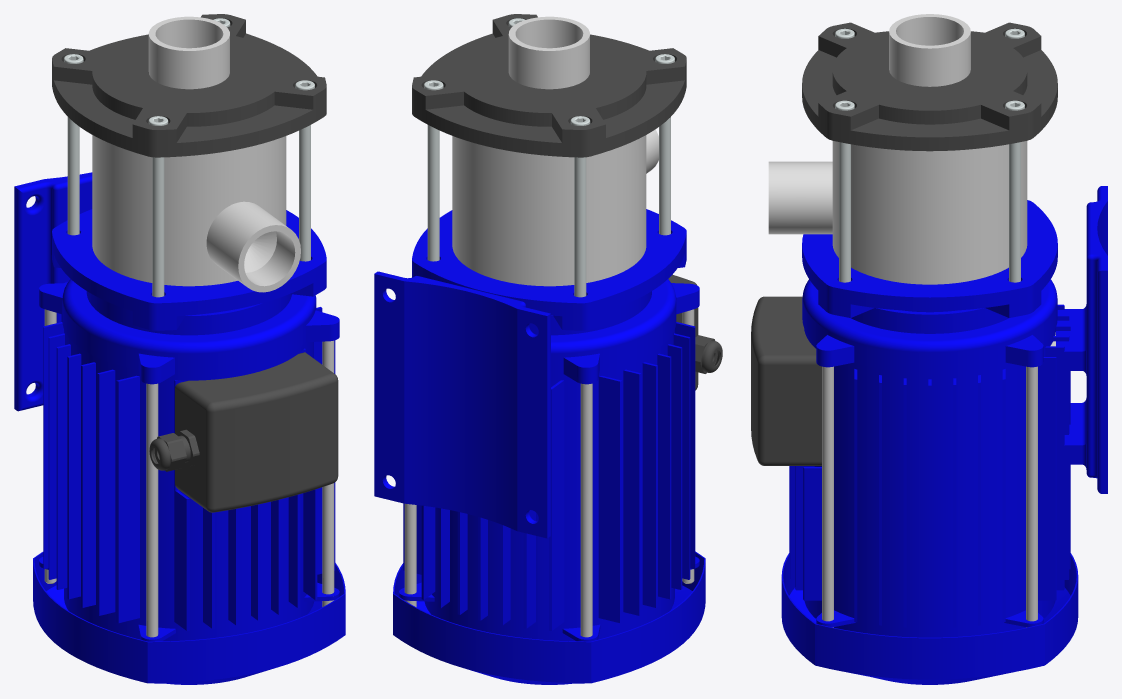
Rendered from pump1.glb.
3 renders of one model, left to right at view 1: azimuth 30°, elevation 25°; view 2: azimuth 150°, elevation 25°; view 3: azimuth 270°, elevation 25°, orthographic.
Visible parts, largest first — view 1: object 1, Part_14, Part_20, Part_13, Part_19, Part_17, Subassembly_2; view 2: object 1, Part_11, Part_17, Part_18, Part_20, Part_12, Subassembly_2; view 3: object 1, Part_12, Part_13, Part_18, Part_19.
Part boxes in pixels (left/top/right/bottom): object 1: left=14, top=14, right=345, bottom=684; Part_14: left=146, top=383, right=158, bottom=637; Part_20: left=148, top=116, right=168, bottom=297; Part_13: left=322, top=340, right=334, bottom=606; Part_19: left=295, top=80, right=314, bottom=261; Part_17: left=64, top=54, right=83, bottom=235; Subassembly_2: left=149, top=429, right=199, bottom=471; object 1: left=374, top=14, right=705, bottom=684; Part_11: left=580, top=383, right=592, bottom=637; Part_17: left=570, top=116, right=590, bottom=297; Part_18: left=424, top=80, right=443, bottom=261; Part_20: left=655, top=54, right=674, bottom=235; Part_12: left=404, top=503, right=416, bottom=607; Subassembly_2: left=695, top=335, right=722, bottom=373; object 1: left=751, top=14, right=1107, bottom=684; Part_12: left=1026, top=366, right=1037, bottom=627; Part_13: left=822, top=366, right=833, bottom=627; Part_18: left=1005, top=100, right=1024, bottom=282; Part_19: left=835, top=100, right=854, bottom=282.
Size of the model in its own units: 0.195 by 0.445 by 0.2346.
